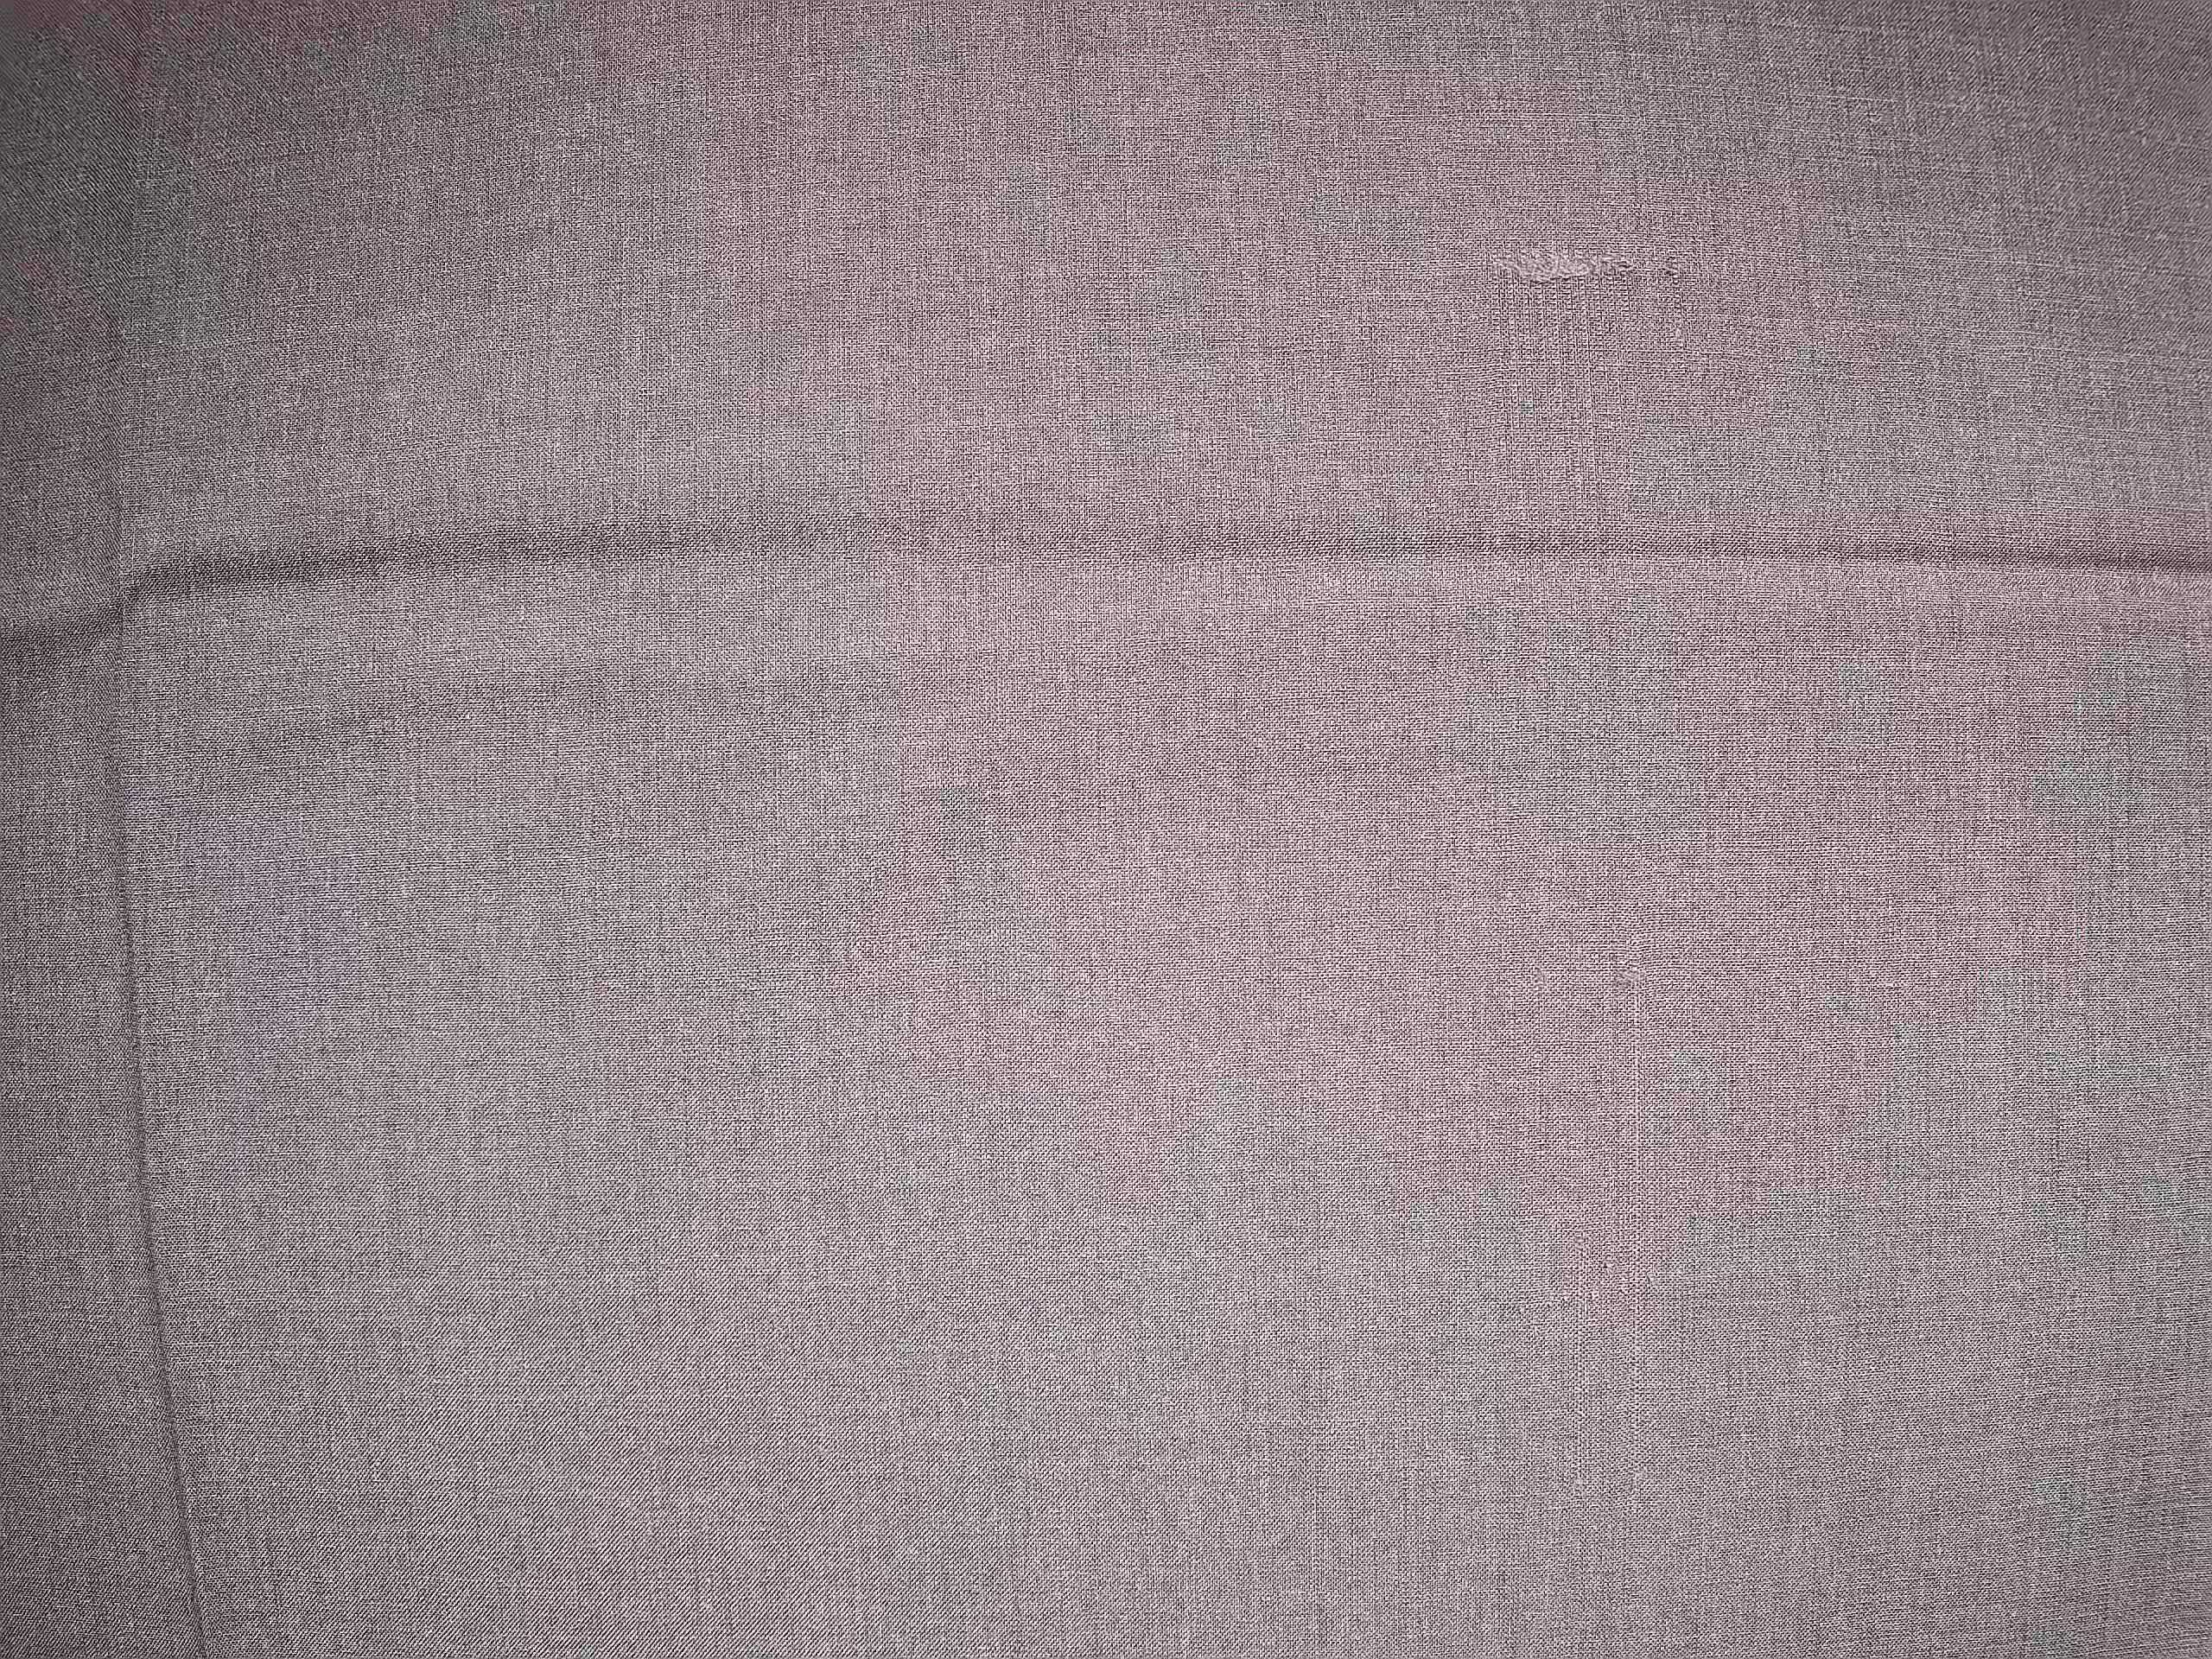lacking-warp: (1487, 218, 1740, 317)
